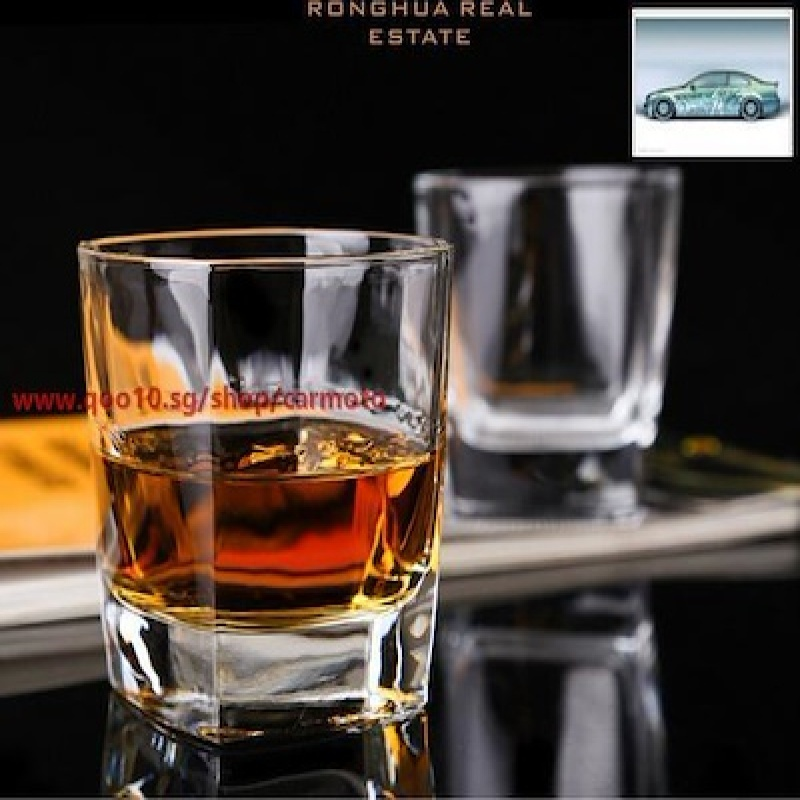whiskey: (81, 230, 462, 724)
